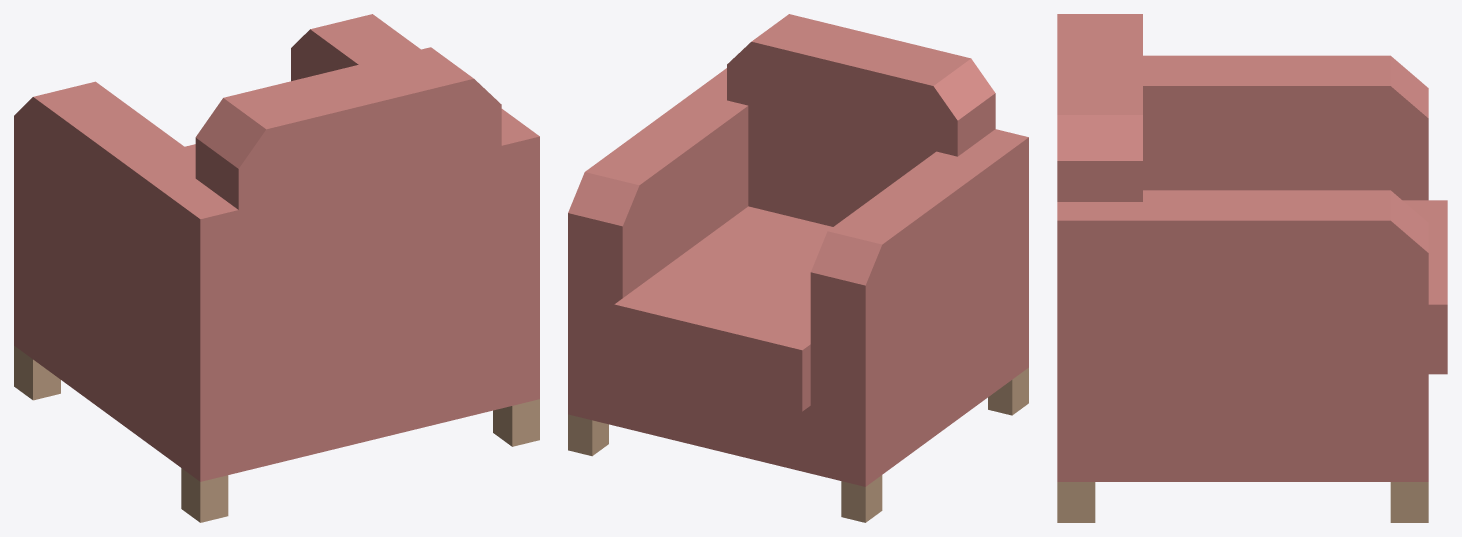
The model's file is armchair.glb.
3 views of the same model, side by side, from view 1: azimuth 30°, elevation 25°; view 2: azimuth 150°, elevation 25°; view 3: azimuth 270°, elevation 25° (orthographic). The views are drawn at different scales.
Parts seen in each view (by area): view 1: armchair; view 2: armchair; view 3: armchair.
Part boxes in pixels (x1,y1,x2,y2): armchair: (14, 14, 539, 522); armchair: (568, 14, 1028, 522); armchair: (1057, 14, 1447, 522).
Bounding box in the file's own units: 0.8 × 0.85 × 0.8.
